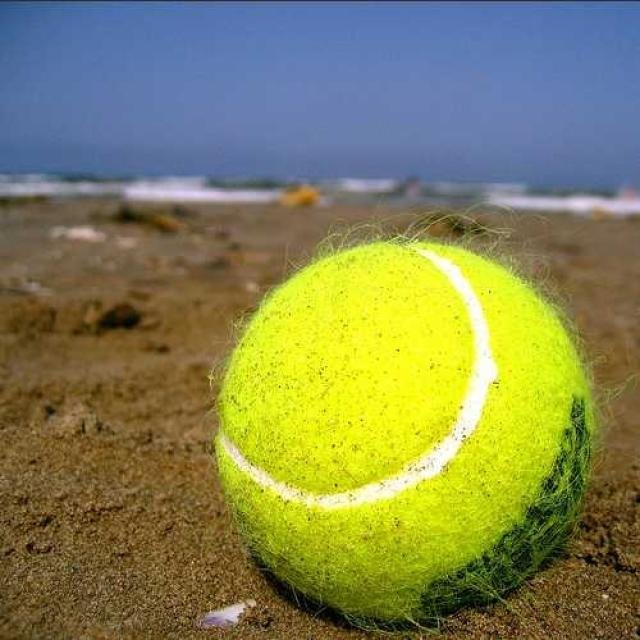Tennis_Ball: (207, 251, 596, 627)
